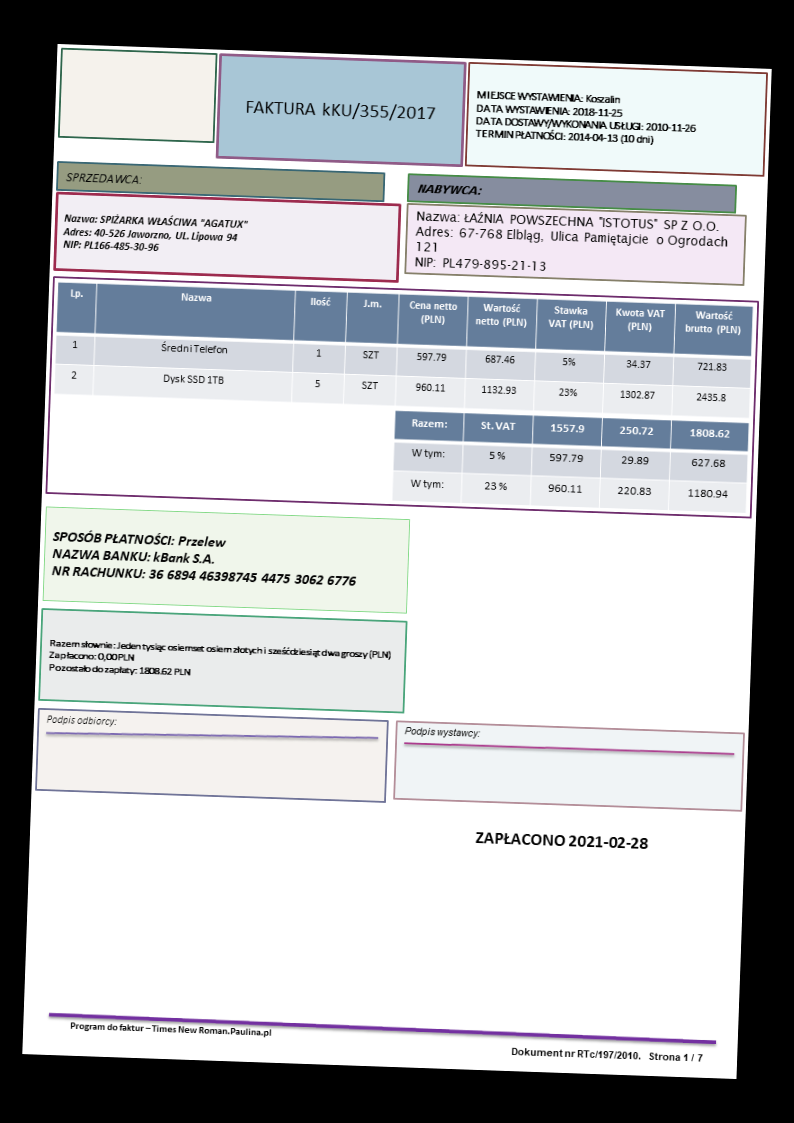Table: (53, 281, 754, 419), (391, 409, 751, 515)
TextBox: (411, 207, 730, 280), (48, 524, 359, 592), (46, 634, 396, 687), (473, 85, 698, 149), (60, 210, 250, 257), (243, 96, 437, 125), (66, 1019, 275, 1040), (509, 1043, 708, 1065), (474, 828, 650, 852), (63, 167, 144, 187), (402, 723, 483, 742), (44, 710, 118, 730), (415, 179, 484, 198)
